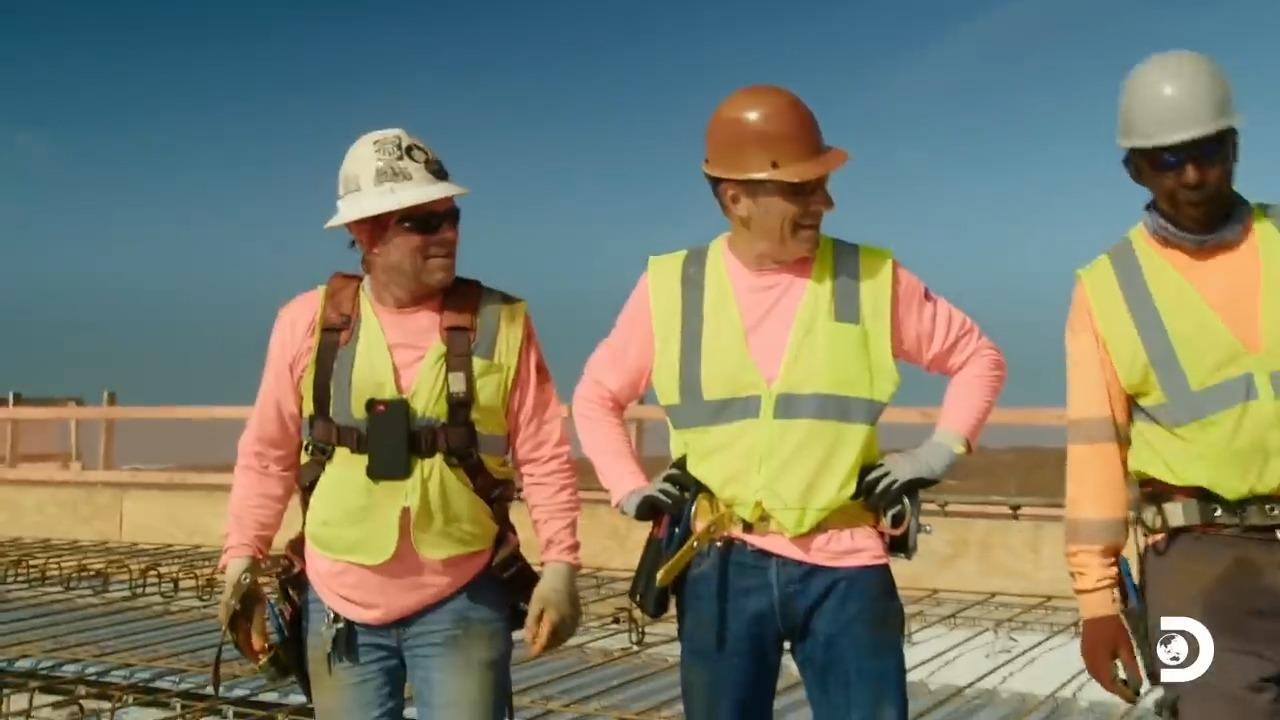Gloves: (1074, 605, 1156, 698), (864, 432, 947, 519), (515, 574, 594, 660), (218, 564, 267, 657), (623, 468, 700, 526)
Helmet: (323, 126, 469, 229), (701, 84, 848, 183), (1115, 48, 1237, 150)
Person: (569, 84, 1007, 720), (219, 126, 586, 719), (1062, 48, 1279, 719)
Safety Vest: (296, 311, 513, 577), (649, 254, 886, 494), (1111, 243, 1280, 491)
